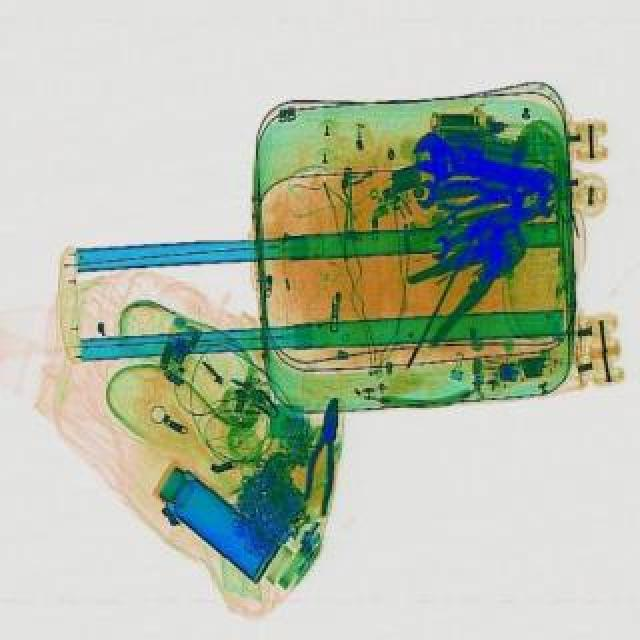scissors: (404, 128, 556, 200), (422, 196, 514, 260)
wrench: (392, 218, 554, 346), (300, 396, 346, 516)
